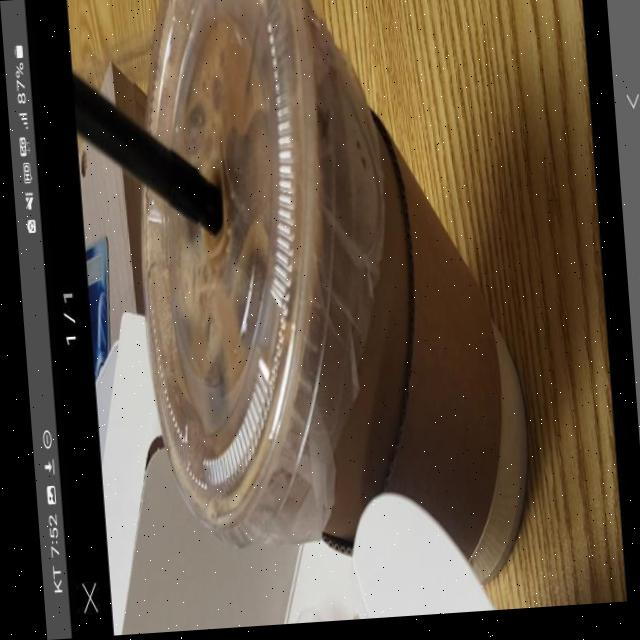cup: (100, 0, 528, 605)
